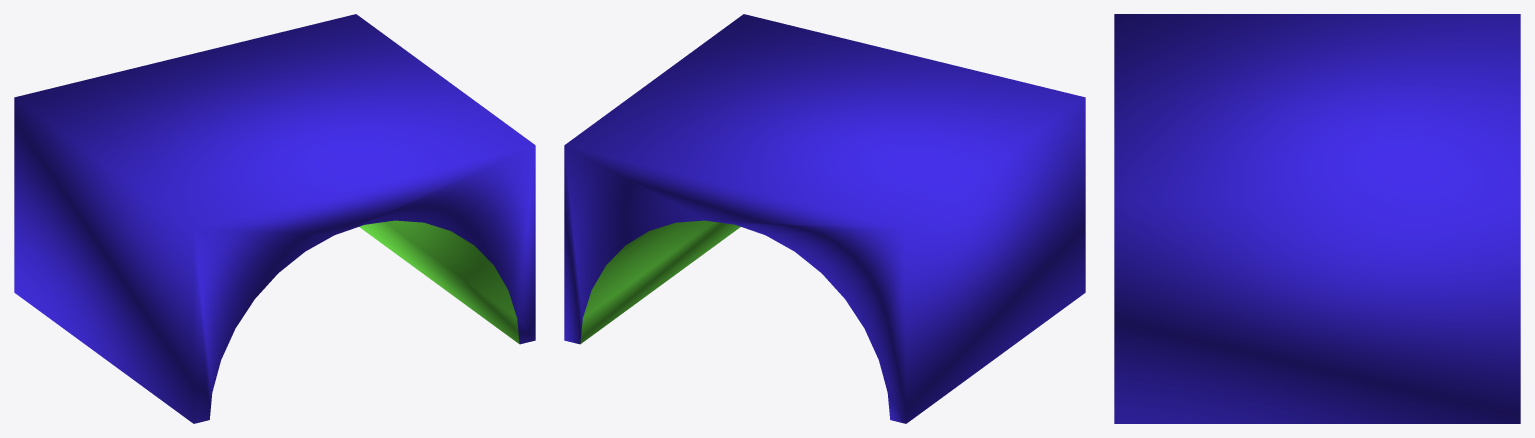
File: CubeTunnel.fbx
3 views of the same model, side by side, from view 1: azimuth 30°, elevation 25°; view 2: azimuth 150°, elevation 25°; view 3: azimuth 270°, elevation 25° (orthographic). The views are drawn at different scales.
Parts seen in each view (by area): view 1: CubeTunnel; view 2: CubeTunnel; view 3: CubeTunnel.
Boxes of the visible parts, x1=… form: CubeTunnel: x1=14, y1=14, x2=535, y2=423; CubeTunnel: x1=564, y1=14, x2=1085, y2=423; CubeTunnel: x1=1114, y1=14, x2=1520, y2=423.
Size of the model in its own units: 220 by 120 by 200.
